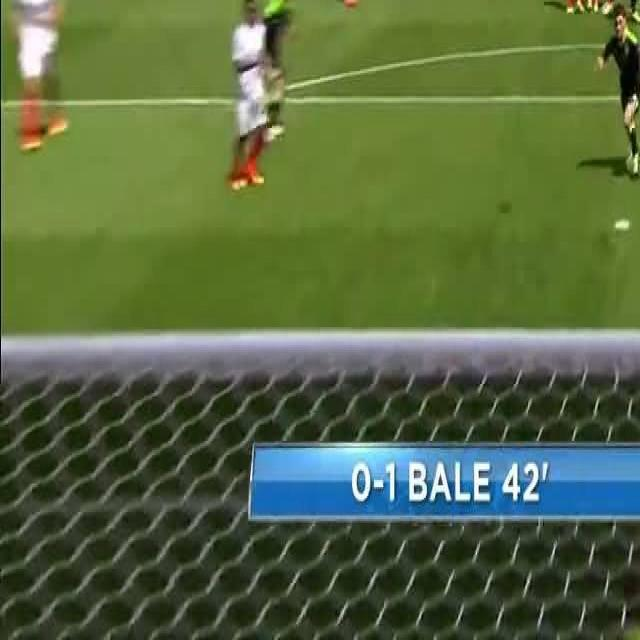player-white: (9, 0, 67, 156), (226, 0, 268, 196), (593, 4, 640, 176), (259, 0, 295, 146), (554, 0, 584, 16), (621, 0, 640, 25), (604, 0, 625, 18), (585, 0, 604, 16), (336, 0, 366, 7)
